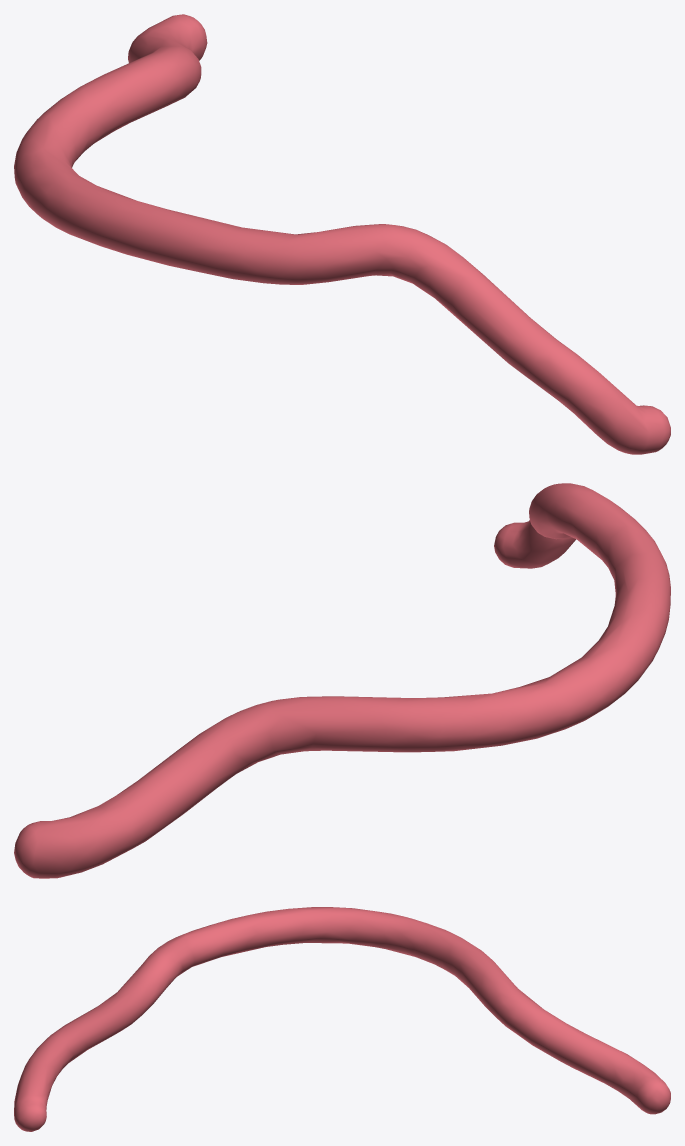
File: fma50991_fj5046.glb
3 views of the same model, one above another, from view 1: azimuth 30°, elevation 25°; view 2: azimuth 150°, elevation 25°; view 3: azimuth 270°, elevation 25° (orthographic). The views are drawn at different scales.
Visible parts, largest first — view 1: FMA50991_FJ5046; view 2: FMA50991_FJ5046; view 3: FMA50991_FJ5046.
Boxes of the visible parts, bbox=[...] form: FMA50991_FJ5046: bbox=[14, 14, 670, 454]; FMA50991_FJ5046: bbox=[14, 483, 670, 878]; FMA50991_FJ5046: bbox=[14, 907, 670, 1131].
Bounding box in the file's own units: 0.0246 × 0.0115 × 0.0548.
